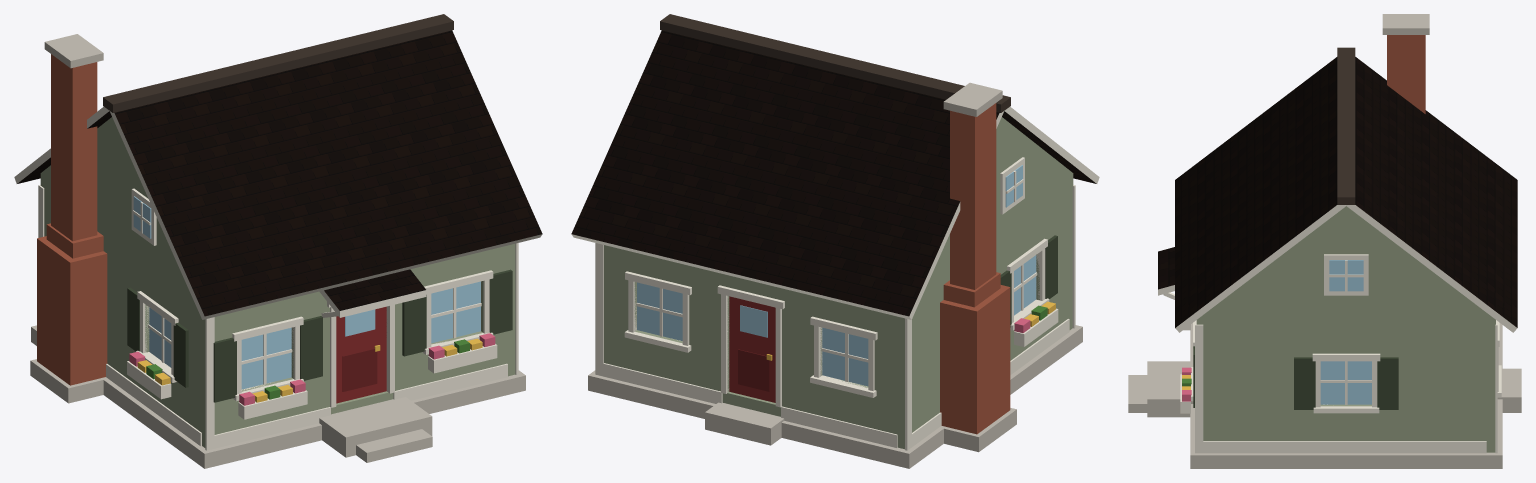
File: base-01-level1.glb
3 renders of one model, left to right at view 1: azimuth 30°, elevation 25°; view 2: azimuth 150°, elevation 25°; view 3: azimuth 270°, elevation 25°, orthographic. The views are drawn at different scales.
Visible parts, largest first — view 1: base_house_1_finished; view 2: base_house_1_finished; view 3: base_house_1_finished.
Part boxes in pixels (bbox=[...]): base_house_1_finished: bbox=[14, 14, 542, 468]; base_house_1_finished: bbox=[571, 14, 1099, 468]; base_house_1_finished: bbox=[1128, 14, 1521, 468].
Size of the model in its own units: 8.89 by 7.79 by 9.2.
15 materials, 1 textured.
